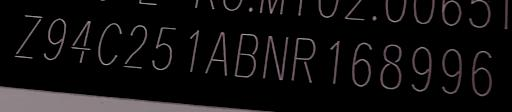letter: (148, 20, 178, 72), (230, 27, 258, 81), (468, 44, 496, 98), (120, 20, 148, 71), (92, 13, 120, 63), (288, 31, 316, 81), (376, 42, 404, 92), (263, 31, 289, 83), (348, 38, 374, 90), (440, 42, 466, 94), (13, 9, 39, 60), (68, 11, 92, 63), (407, 43, 433, 91), (42, 12, 66, 63), (204, 27, 228, 78), (320, 35, 344, 83), (181, 26, 205, 70)
